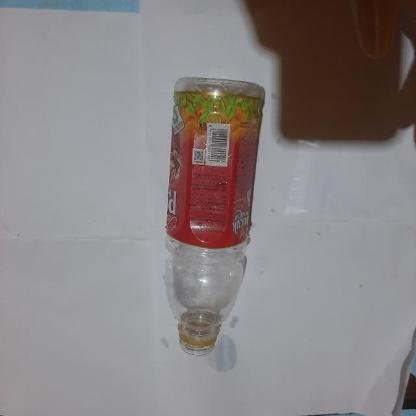Plastic Bottle: (154, 66, 288, 376)
